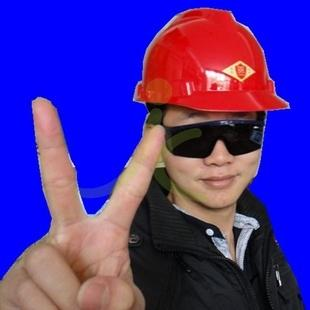helmet: (122, 6, 297, 116)
